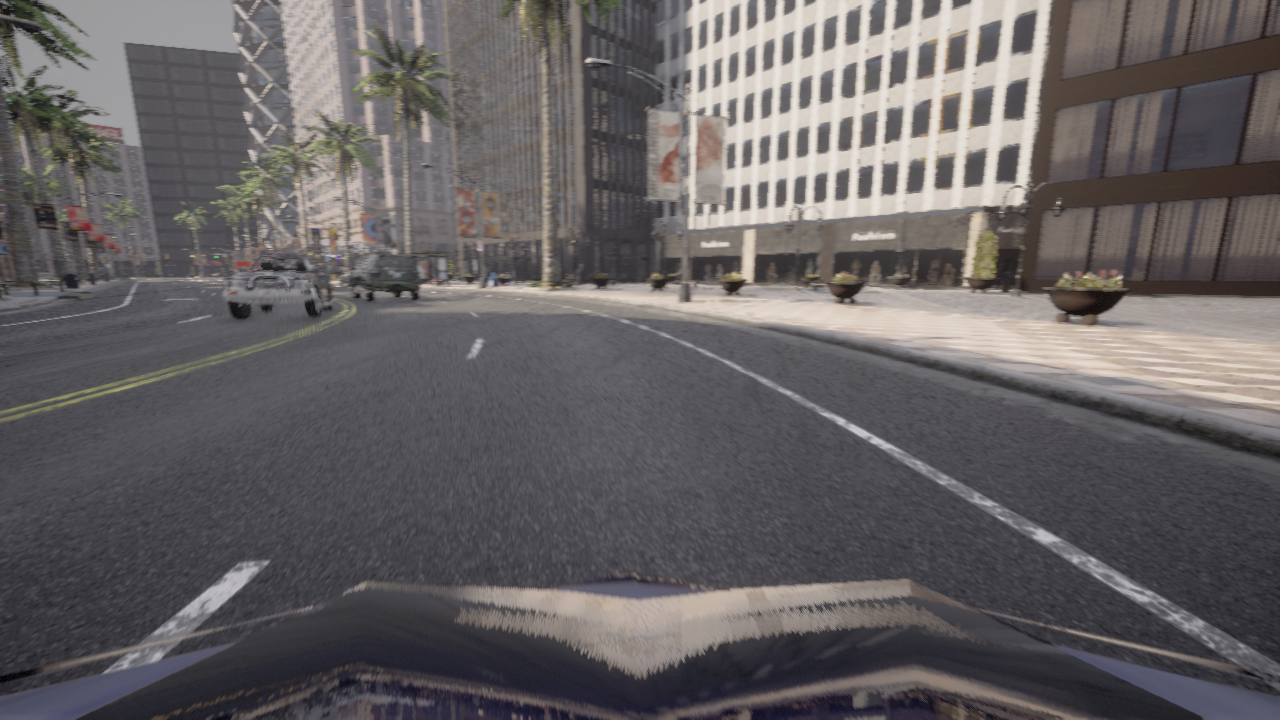cyclist: (0, 569, 1279, 719), (224, 250, 333, 319), (349, 254, 421, 301), (231, 261, 254, 273), (338, 270, 354, 285)
